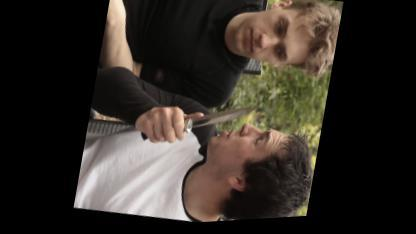knife: (148, 90, 264, 164)
